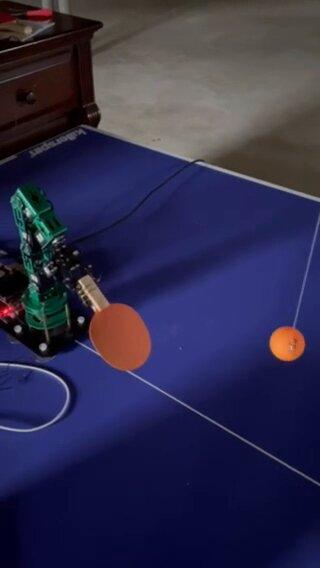oball: (269, 324, 306, 361)
